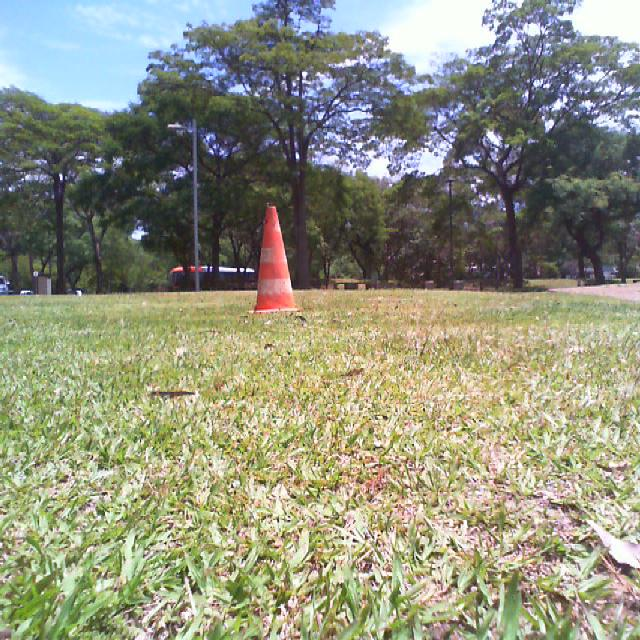cone: (248, 204, 300, 313)
